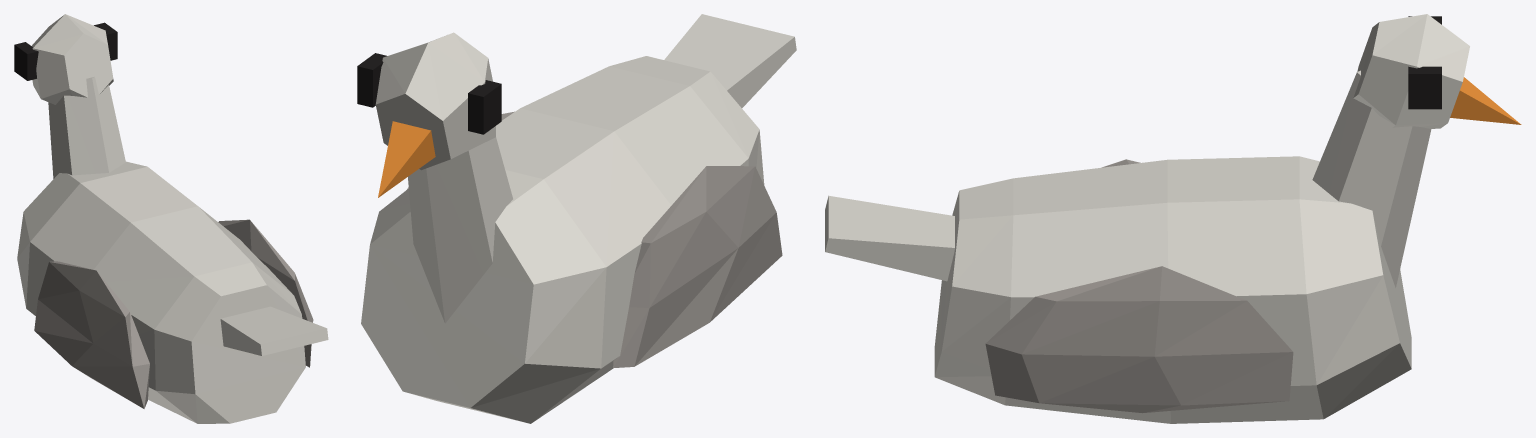
File: animal_goose.obj
The picture shows the model from 3 angles, left to right: view 1: azimuth 30°, elevation 25°; view 2: azimuth 150°, elevation 25°; view 3: azimuth 270°, elevation 25°; orthographic projection. The views are drawn at different scales.
Visible parts, largest first — view 1: animal_goose; view 2: animal_goose; view 3: animal_goose.
Boxes of the visible parts, bbox=[...] form: animal_goose: bbox=[14, 14, 328, 423]; animal_goose: bbox=[357, 14, 796, 423]; animal_goose: bbox=[825, 14, 1521, 423].
Size of the model in its own units: 0.2787 by 0.405 by 0.6583.
